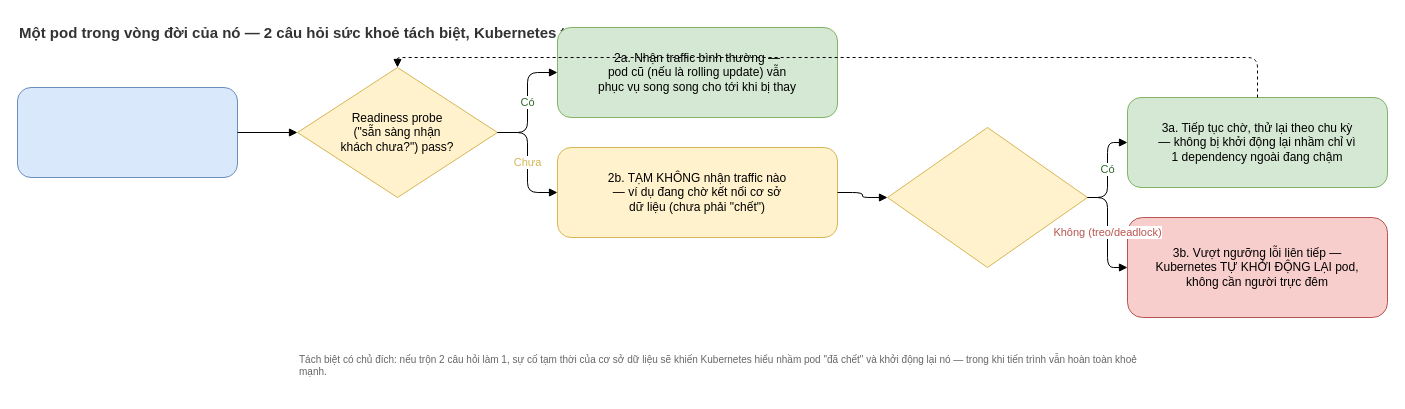
Some shapes in this 1405 by 409 pixel diagram are drawn without their labels. Each missing label, with the centre of its shape:
1. Pod mới được tạo (triển khai lần đầu hoặc rolling update): point (127, 132)
Liveness probe ("còn sống không?") pass?: point (987, 197)
